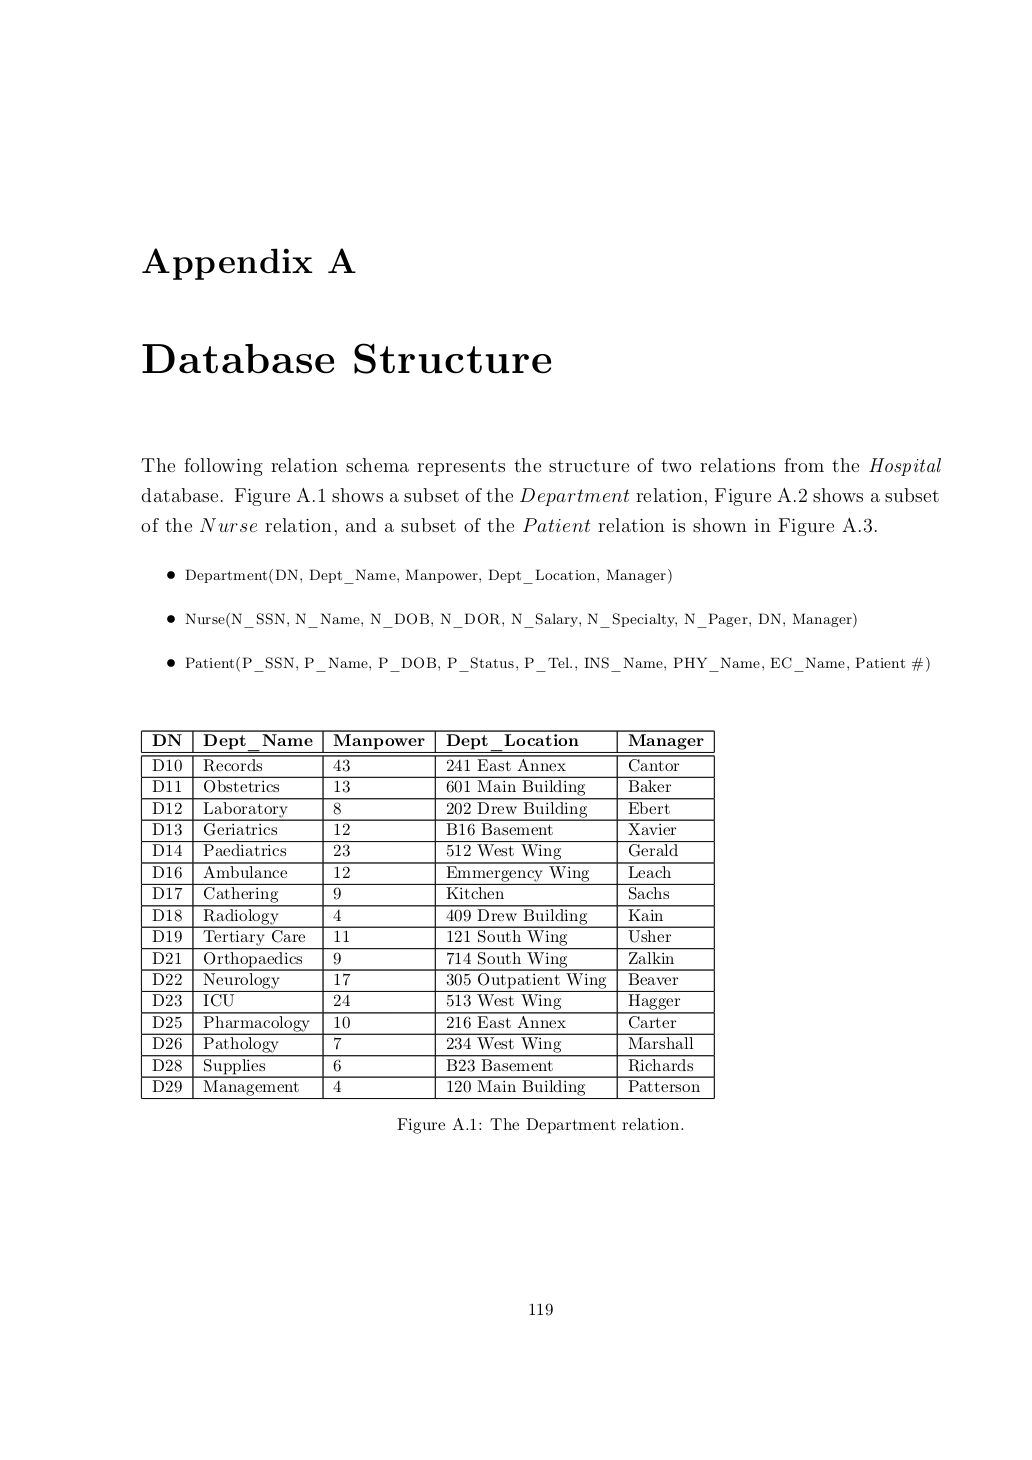Table: (140, 728, 714, 1099)
